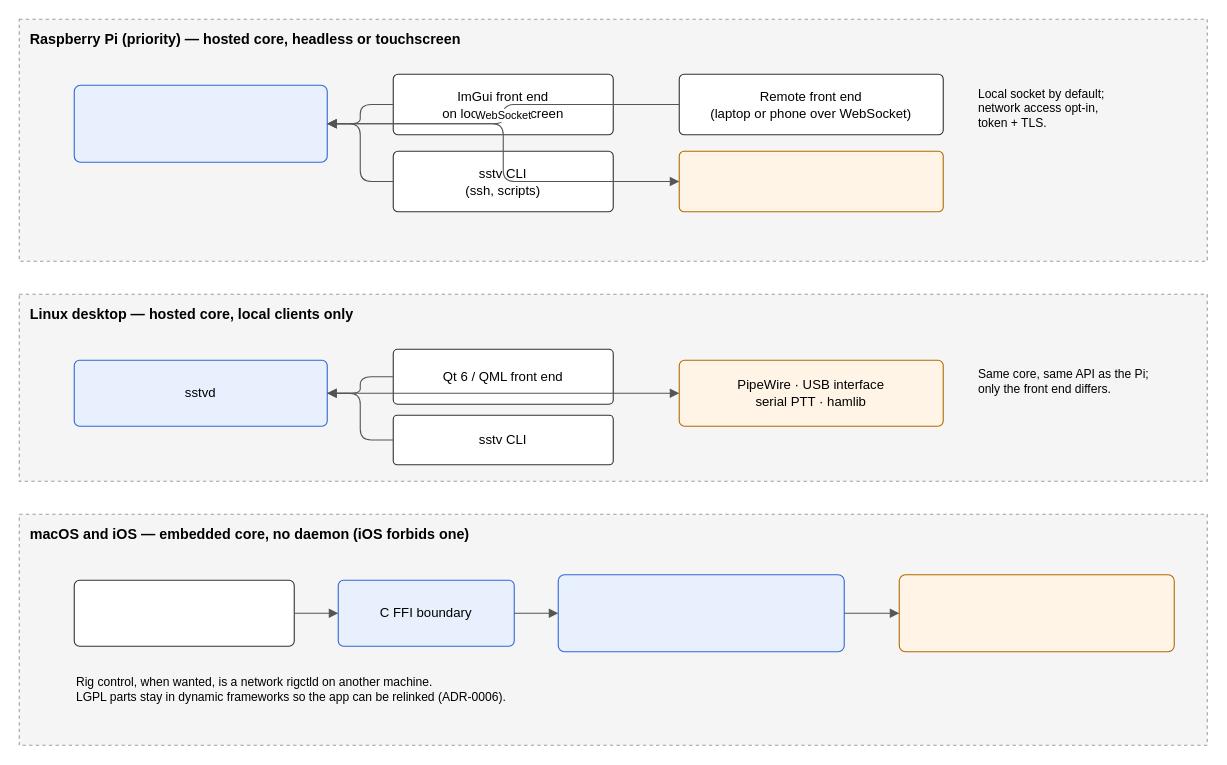
This 1227x765 diagram has some shape labels left out. Here are the shapes that lost their labels. From the top down, the box of each, then its label:
(73, 84, 327, 162): sstvd (owns audio, keying, rig)
(678, 150, 943, 212): ALSA / PipeWire GPIO or serial PTT · hamlib
(73, 579, 294, 646): Flutter app
(557, 574, 844, 652): libsstv_station (in-process, dynamic framework)
(898, 574, 1174, 652): CoreAudio · speaker + mic VOX keying
